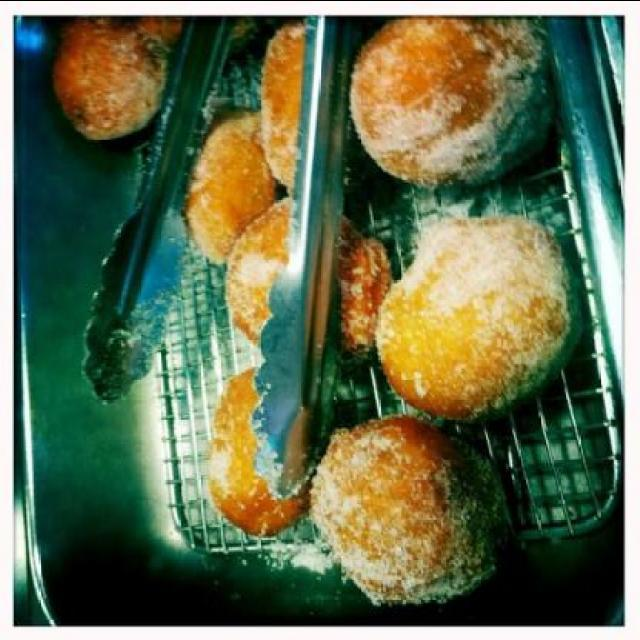Donuts: (59, 2, 584, 586)
